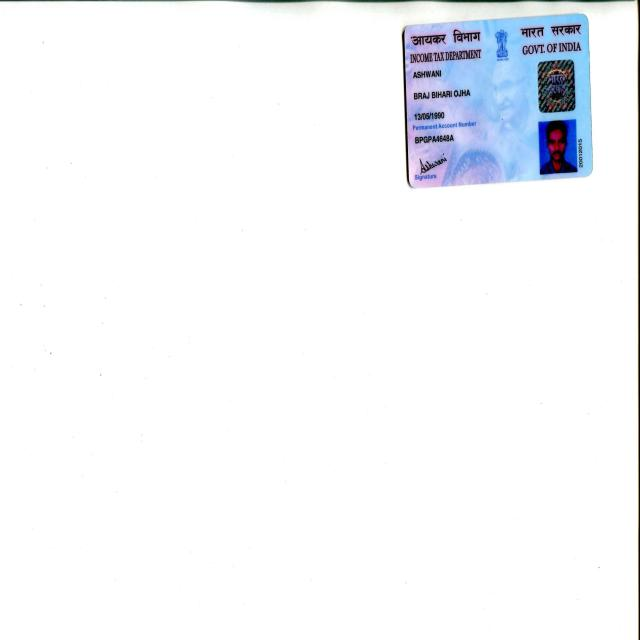pan_card: (404, 15, 590, 187)
